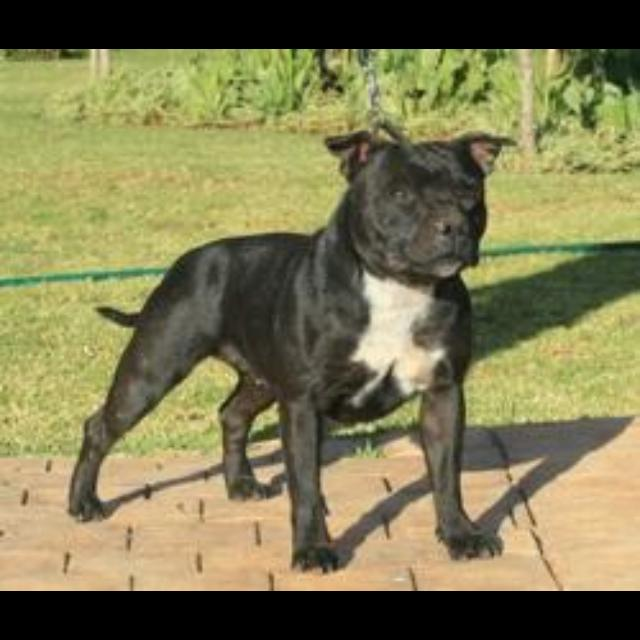staffford: (66, 112, 519, 575)
